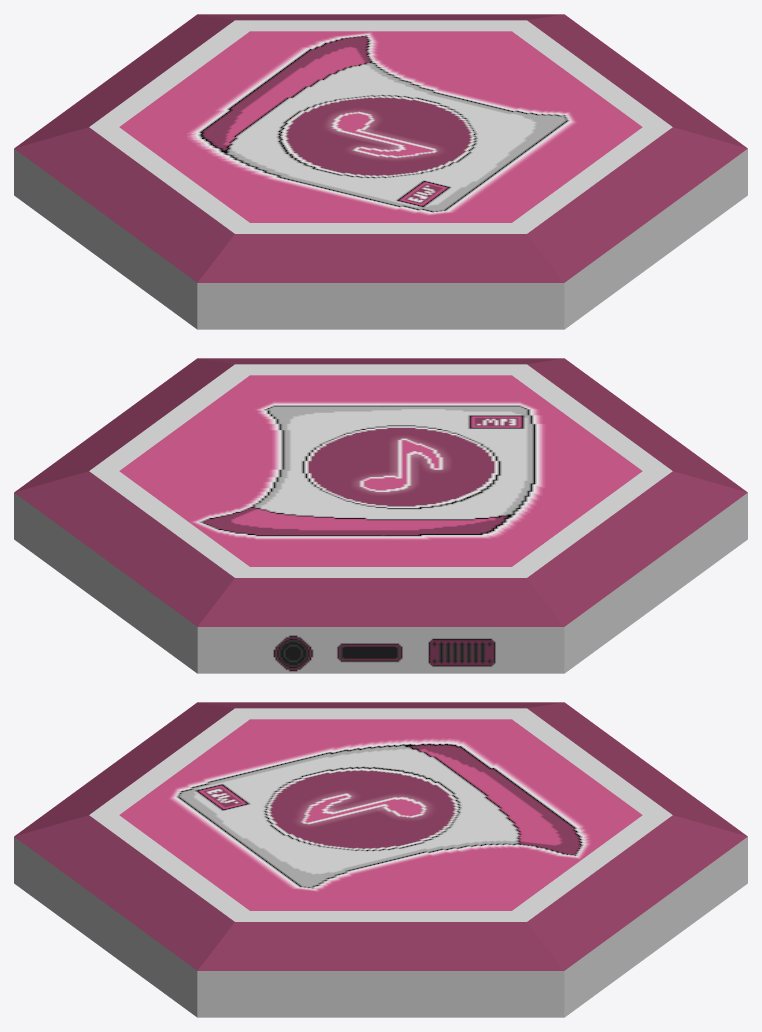
The model's file is MP3 COin.fbx.
3 renders of one model, top to bottom at view 1: azimuth 30°, elevation 25°; view 2: azimuth 150°, elevation 25°; view 3: azimuth 270°, elevation 25°, orthographic.
Visible parts, largest first — view 1: (Magenta) MP3 Coin; view 2: (Magenta) MP3 Coin; view 3: (Magenta) MP3 Coin.
Boxes of the visible parts, left/top/right/bottom form: (Magenta) MP3 Coin: left=14, top=14, right=747, bottom=329; (Magenta) MP3 Coin: left=14, top=358, right=747, bottom=673; (Magenta) MP3 Coin: left=14, top=702, right=747, bottom=1017.
Size of the model in its own units: 173 by 26.97 by 200.
